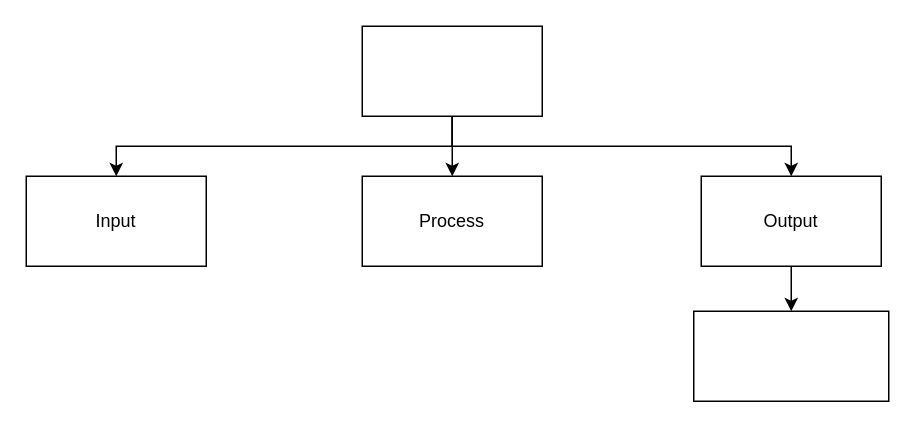
Image size: 915x428. Some labels were removed from this diagram. The shapes that lost their labels are listed below. From the top down, each one's centre as x and y in pixels, then its label:
the point at 451,70: Five integers program
the point at 790,355: print integers in a line of 5
